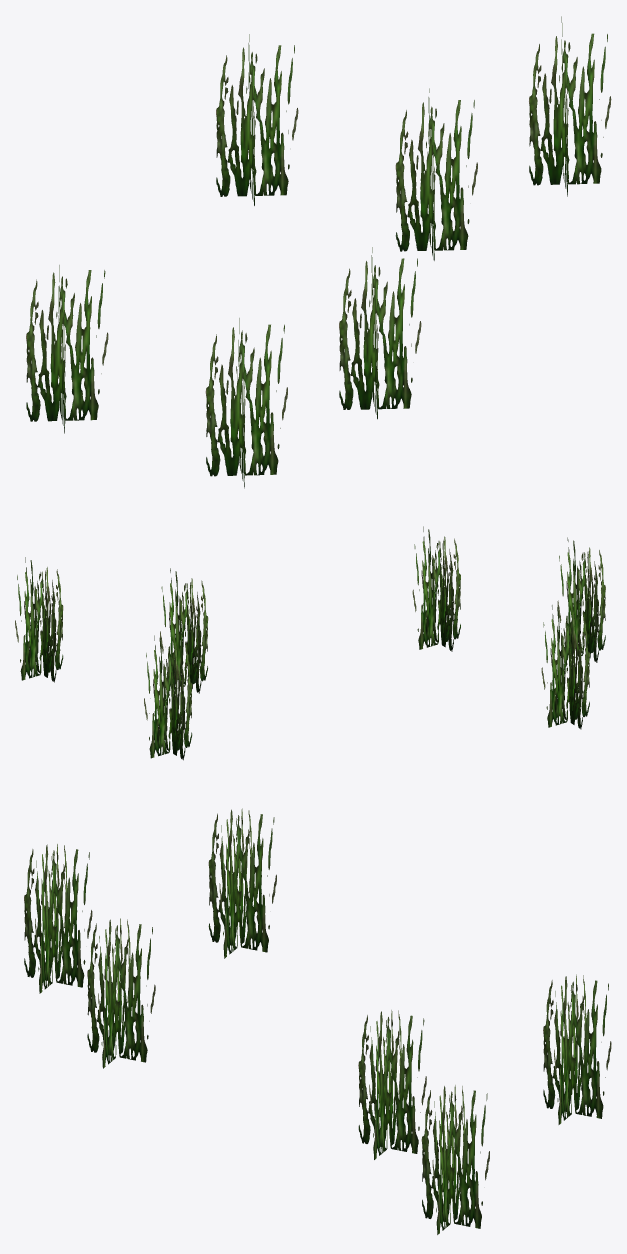
Rendered from grass.FBX.
3 views of the same model, one above another, from view 1: azimuth 30°, elevation 25°; view 2: azimuth 150°, elevation 25°; view 3: azimuth 270°, elevation 25° (orthographic). The views are drawn at different scales.
Visible parts, largest first — view 1: Plane15; view 2: Plane15; view 3: Plane15.
Boxes of the visible parts, x1,y1,x2,y2 form: Plane15: (26,16,611,488); Plane15: (15,526,605,760); Plane15: (24,808,611,1234).
Bounding box in the file's own units: 324 × 66.96 × 265.
